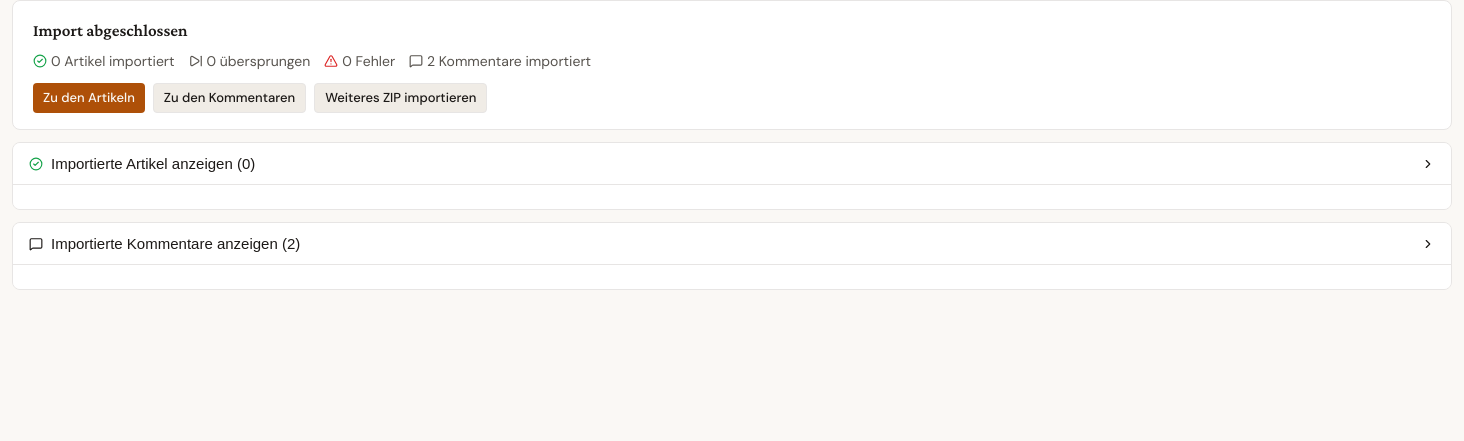
MediumImportResult › renders the imported-comments count + collapsible section when count > 0
Check: the element with test id "medium-import-result-imported-comments-count" is shown, box [409,50,591,73]
Click the button with test id "medium-import-result-imported-comments-trigger".
click(176, 244)  # box [13,223,1451,264]
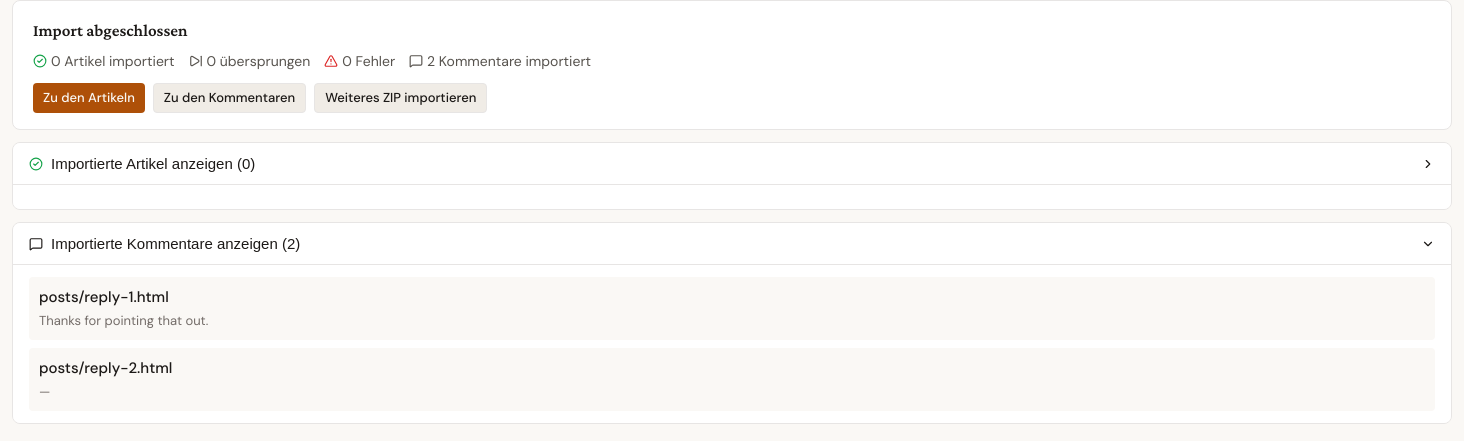
Check: the number of elements with test id "medium-import-result-imported-comment-row" is 2, box [29,277,1435,340]; [29,348,1435,411]
Check: the element with test id "medium-import-result-imported-comment-row" shows "—", box [39,383,50,400]
Check: the element with test id "medium-import-result-imported-comment-row" shows "Thanks for pointing that out.", box [39,312,208,329]
